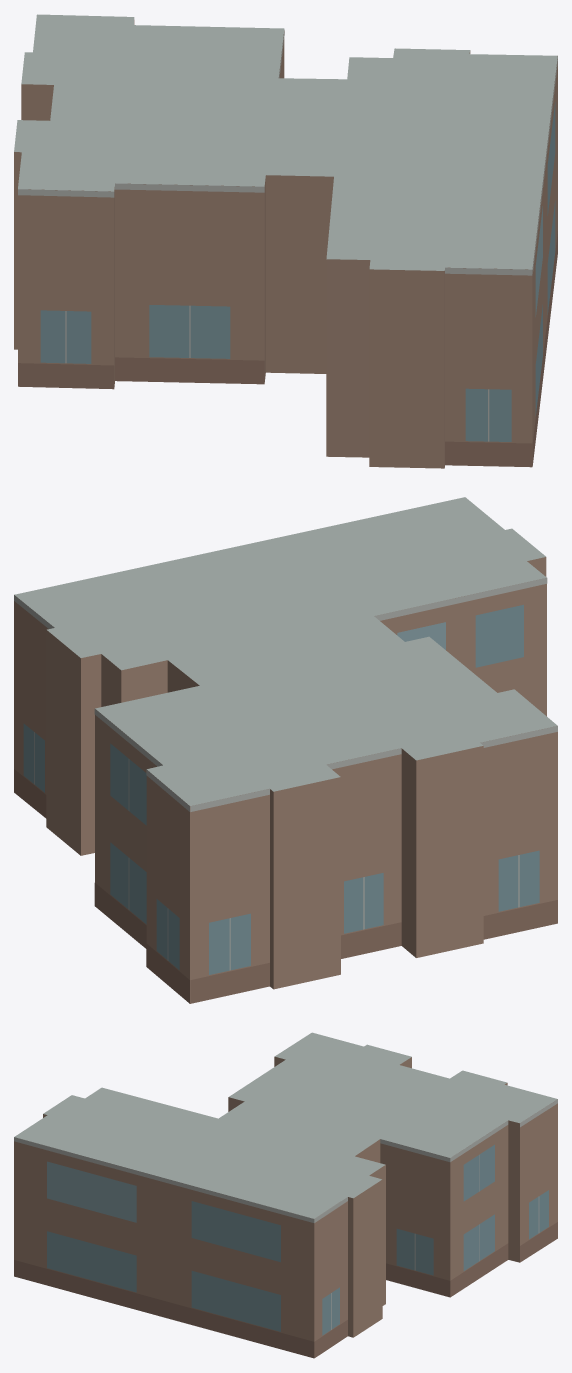
File: survey-upis-32650428.glb
3 views of the same model, one above another, from view 1: azimuth 30°, elevation 25°; view 2: azimuth 150°, elevation 25°; view 3: azimuth 270°, elevation 25° (orthographic). The views are drawn at different scales.
Visible parts, largest first — view 1: survey-upis-32650428.tmp; view 2: survey-upis-32650428.tmp; view 3: survey-upis-32650428.tmp.
Part boxes in pixels (x1=…): survey-upis-32650428.tmp: x1=14, y1=14, x2=557, y2=468; survey-upis-32650428.tmp: x1=14, y1=497, x2=557, y2=1003; survey-upis-32650428.tmp: x1=14, y1=1032, x2=557, y2=1358.
Size of the model in its own units: 22.91 by 7.98 by 28.22.
